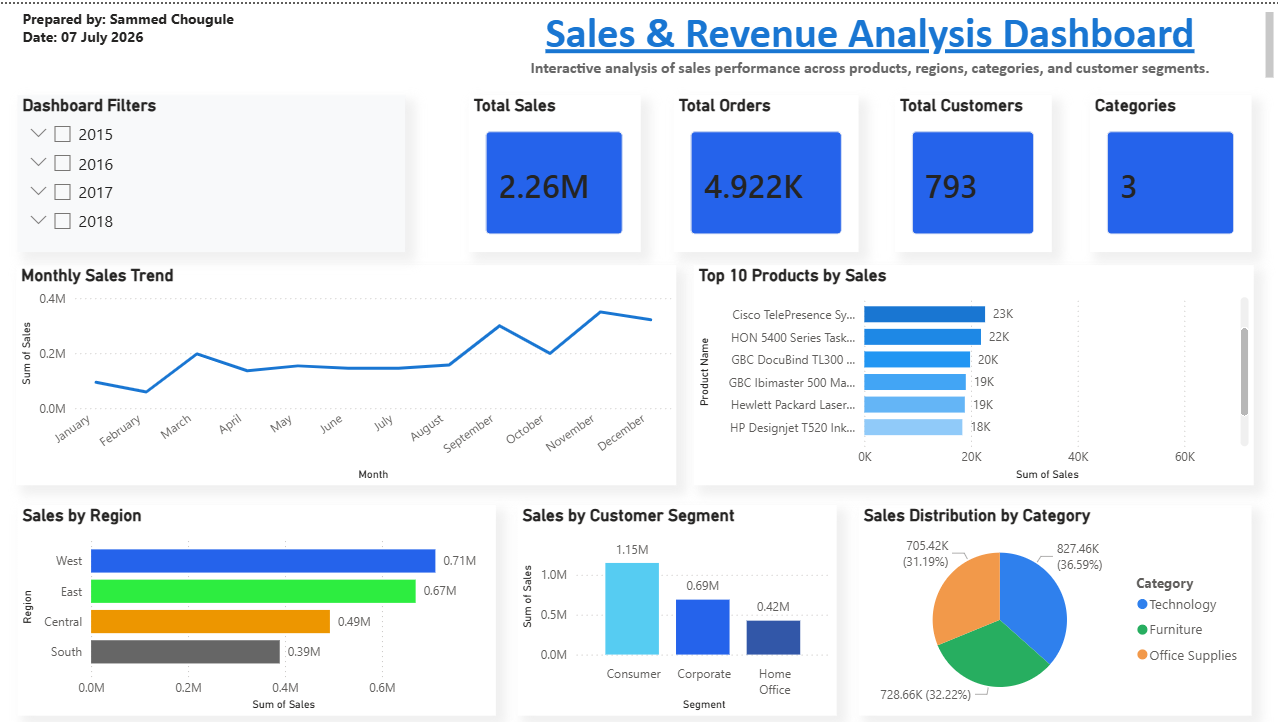

What the dashboard file says about the page in this screenshot:
{"tool":"powerbi","page":{"name":"Page 1","canvas":[1280,720],"ordinal":0},"visuals":[{"type":"cardVisual","title":"Total Orders","fields":{"Data":["Count(Cleaned_Superstore.Order ID)"]},"box":[673.3,91.7,185,156.7],"z":0},{"type":"cardVisual","title":"Total Sales","fields":{"Data":["Sum(Cleaned_Superstore.Sales)"]},"box":[468.3,91.7,171.7,156.7],"z":1},{"type":"cardVisual","title":"Total Customers","fields":{"Data":["Count(Cleaned_Superstore.Customer ID)"]},"box":[895,91.7,156.7,156.7],"z":2},{"type":"cardVisual","title":"Categories","fields":{"Data":["Count(Cleaned_Superstore.Category)"]},"box":[1090,91.7,161.7,156.7],"z":3},{"type":"lineChart","title":"Monthly Sales Trend","fields":{"Category":["Cleaned_Superstore.Order Date.Variation.Date Hierarchy.Month"],"Y":["Sum(Cleaned_Superstore.Sales)"]},"box":[16.7,261.7,660,220],"z":4},{"type":"pieChart","title":"Sales Distribution by Category","fields":{"Category":["Cleaned_Superstore.Category"],"Y":["Sum(Cleaned_Superstore.Sales)"]},"box":[858.4,501.4,392.5,210.3],"z":5},{"type":"clusteredBarChart","title":"Sales by Region","fields":{"Category":["Cleaned_Superstore.Region"],"Y":["Sum(Cleaned_Superstore.Sales)"]},"box":[17.1,501.4,478.1,210.3],"z":6},{"type":"clusteredBarChart","title":"Top 10 Products by Sales","fields":{"Category":["Cleaned_Superstore.Product Name"],"Y":["Sum(Cleaned_Superstore.Sales)"]},"box":[693.3,261.7,560,220],"z":7},{"type":"clusteredColumnChart","title":"Sales by Customer Segment","fields":{"Category":["Cleaned_Superstore.Segment"],"Y":["Sum(Cleaned_Superstore.Sales)"]},"box":[517.3,501.4,319.2,210.3],"z":8},{"type":"slicer","title":"Dashboard Filters","fields":{"Values":["Cleaned_Superstore.Year","Cleaned_Superstore.Region","Cleaned_Superstore.Category","Cleaned_Superstore.Segment","Cleaned_Superstore.State"]},"box":[17.1,91.7,387.6,156.5],"z":9},{"type":"textbox","box":[468.3,0,809.5,78.3],"z":10},{"type":"textbox","box":[17.1,0,223.8,78.3],"z":11}]}

Visuals, with their boxes in screenshot pixels (x1, y1, x2, y2), scaled from the page's 1280x720 canvas onto the 1278x722 screenshot:
"Total Orders" cardVisual: bbox=(672, 92, 857, 249)
"Total Sales" cardVisual: bbox=(468, 92, 639, 249)
"Total Customers" cardVisual: bbox=(894, 92, 1050, 249)
"Categories" cardVisual: bbox=(1088, 92, 1250, 249)
"Monthly Sales Trend" lineChart: bbox=(17, 262, 676, 483)
"Sales Distribution by Category" pieChart: bbox=(857, 503, 1249, 714)
"Sales by Region" clusteredBarChart: bbox=(17, 503, 494, 714)
"Top 10 Products by Sales" clusteredBarChart: bbox=(692, 262, 1251, 483)
"Sales by Customer Segment" clusteredColumnChart: bbox=(516, 503, 835, 714)
"Dashboard Filters" slicer: bbox=(17, 92, 404, 249)
textbox: bbox=(468, 0, 1276, 79)
textbox: bbox=(17, 0, 241, 79)
